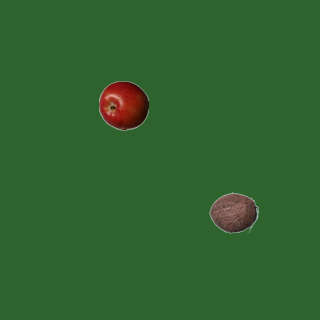Apple Braeburn: (98, 80, 148, 130)
Cocos: (208, 187, 258, 237)
